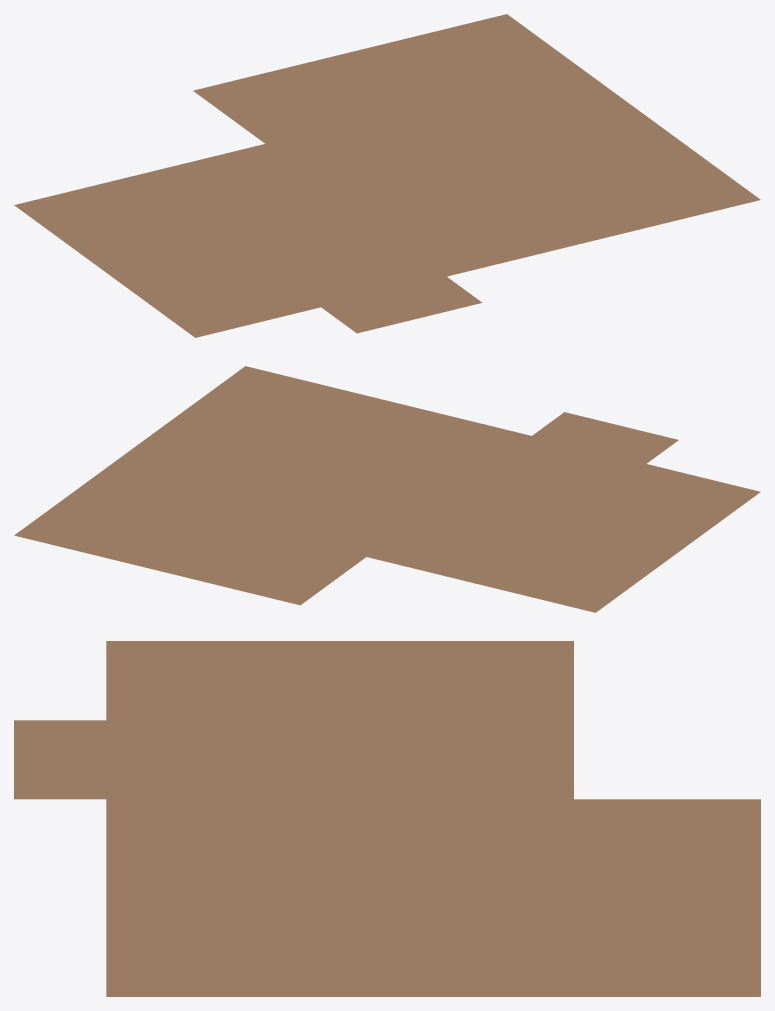
File: N04_Piso_SalaComedor.fbx
3 views of the same model, one above another, from view 1: azimuth 30°, elevation 25°; view 2: azimuth 150°, elevation 25°; view 3: azimuth 270°, elevation 25° (orthographic). The views are drawn at different scales.
Parts seen in each view (by area): view 1: N04_Piso_SalaComedor; view 2: N04_Piso_SalaComedor; view 3: N04_Piso_SalaComedor.
Part boxes in pixels (bbox=[...]): N04_Piso_SalaComedor: bbox=[14, 14, 760, 337]; N04_Piso_SalaComedor: bbox=[14, 366, 760, 612]; N04_Piso_SalaComedor: bbox=[14, 641, 760, 996].
Size of the model in its own units: 900 by 6.03e-05 by 799.
Materials: 1 (1 with a texture image).
